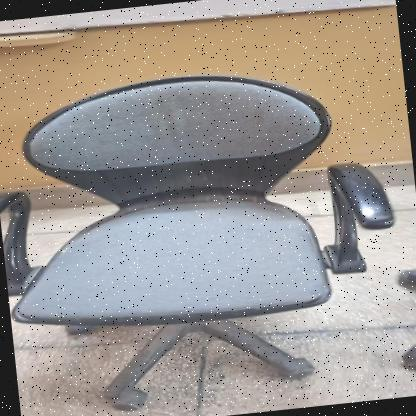chair: (0, 48, 410, 416)
